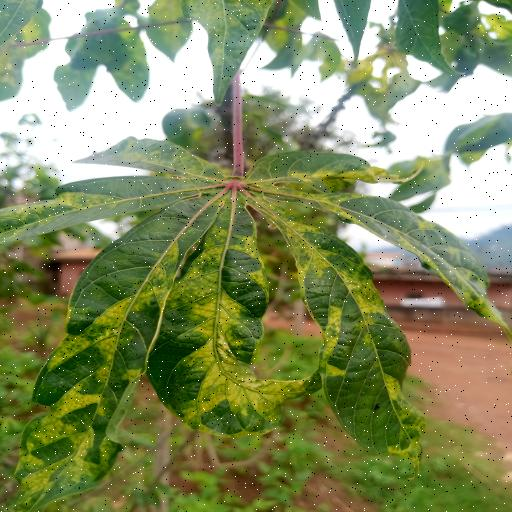Cassava_Mosaic: (2, 130, 512, 504)
